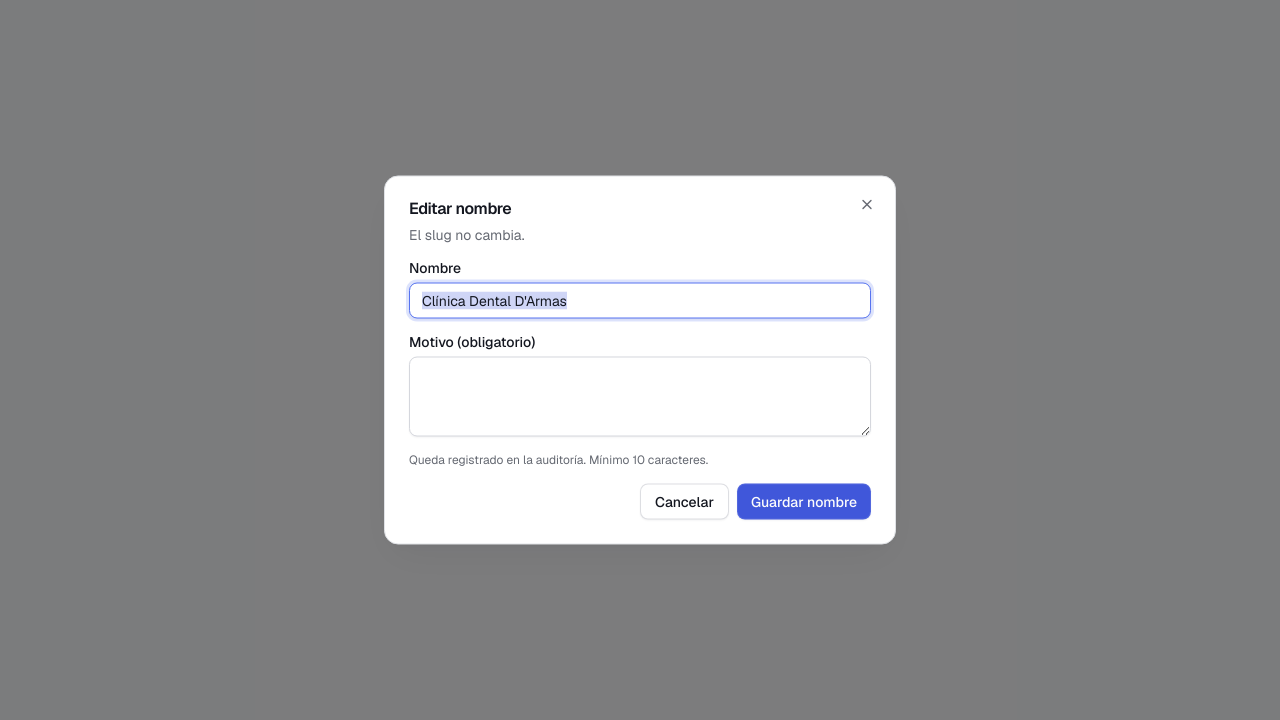
Test: D17: VERSION_CONFLICT en acciones de clínica › editar nombre: "Descartar mis cambios" vuelve al nombre actual
The width and height of the screenshot is (1280, 720).
Replace the text in the field labelled "Nombre" with "Nombre nuevo" at (640, 300), box [409, 282, 871, 318]
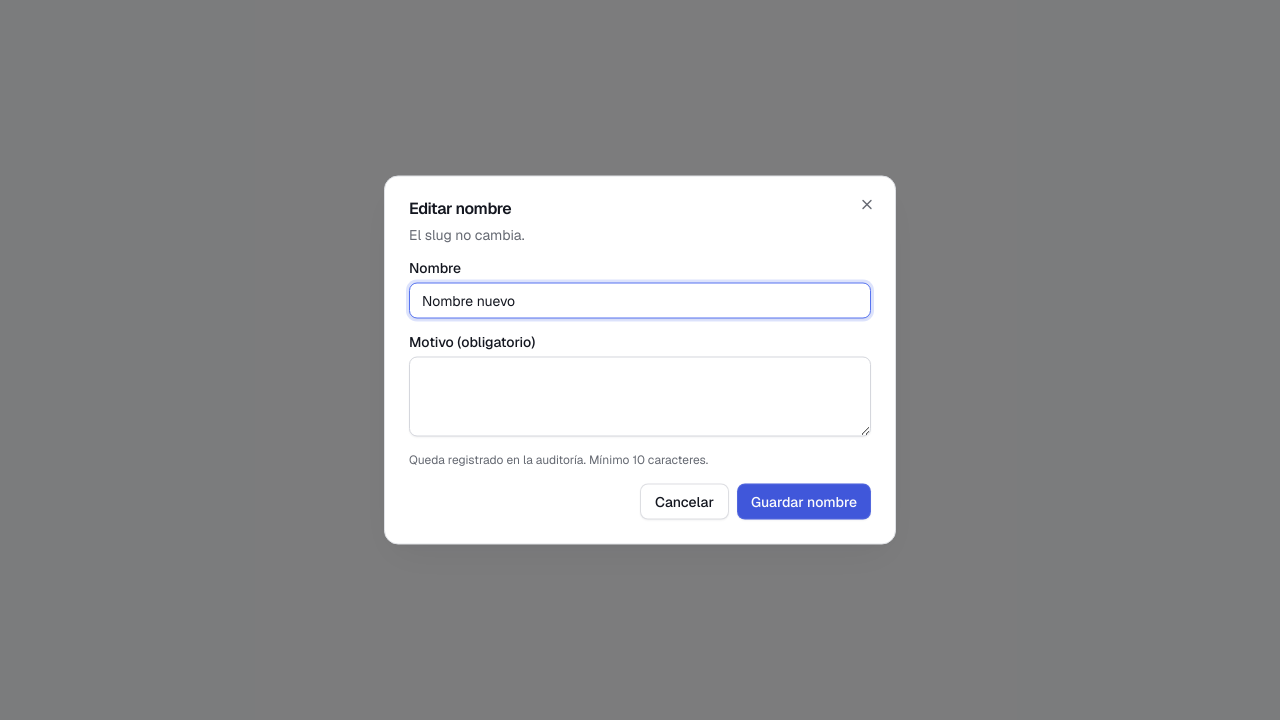
Type "Falta de pago confirmada por finanzas" into the text box labelled "Motivo (obligatorio)" at (640, 396), box [409, 356, 871, 436]
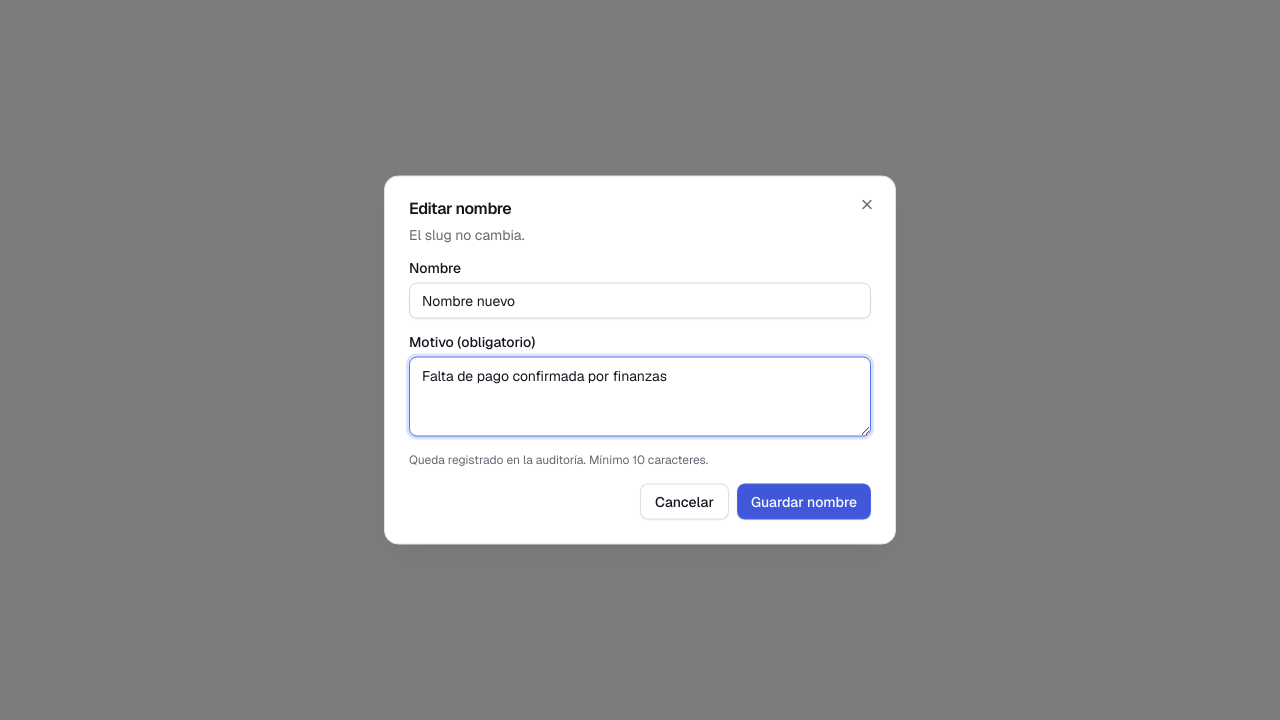
Click the button "Guardar nombre" at (804, 502), box [737, 484, 871, 520]
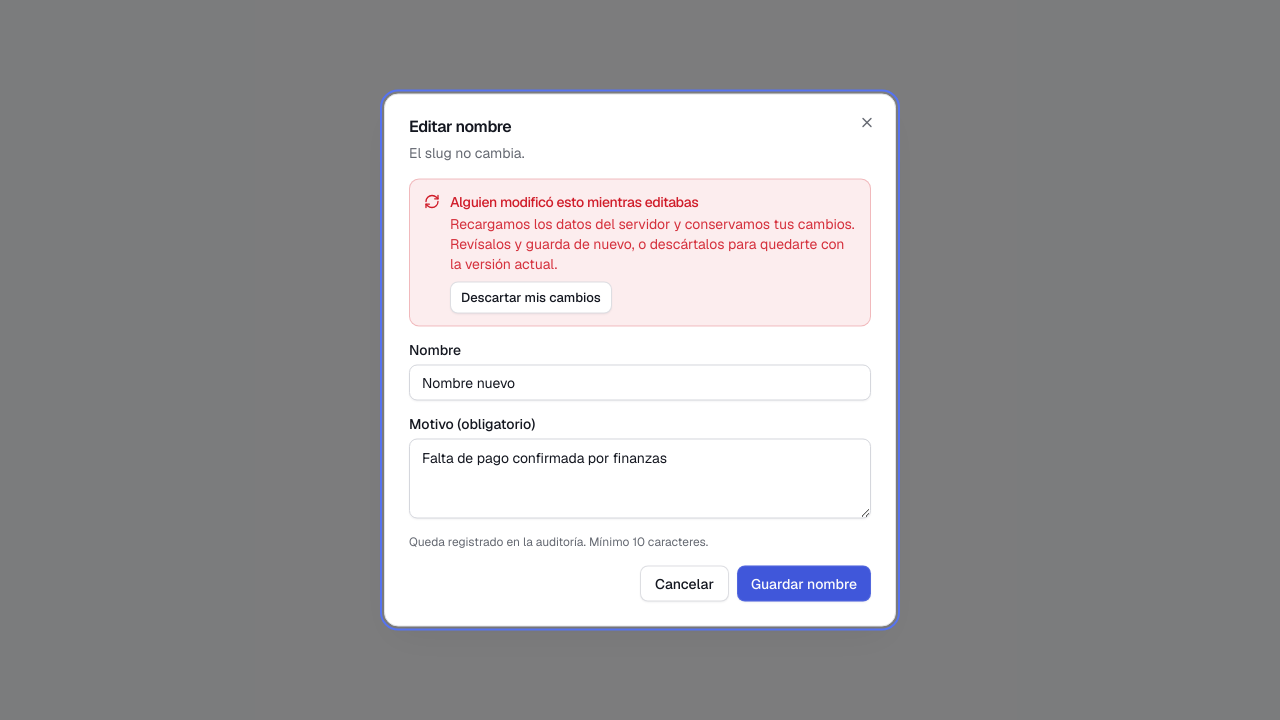
Click the button "Descartar mis cambios" at (531, 298), box [450, 282, 612, 314]
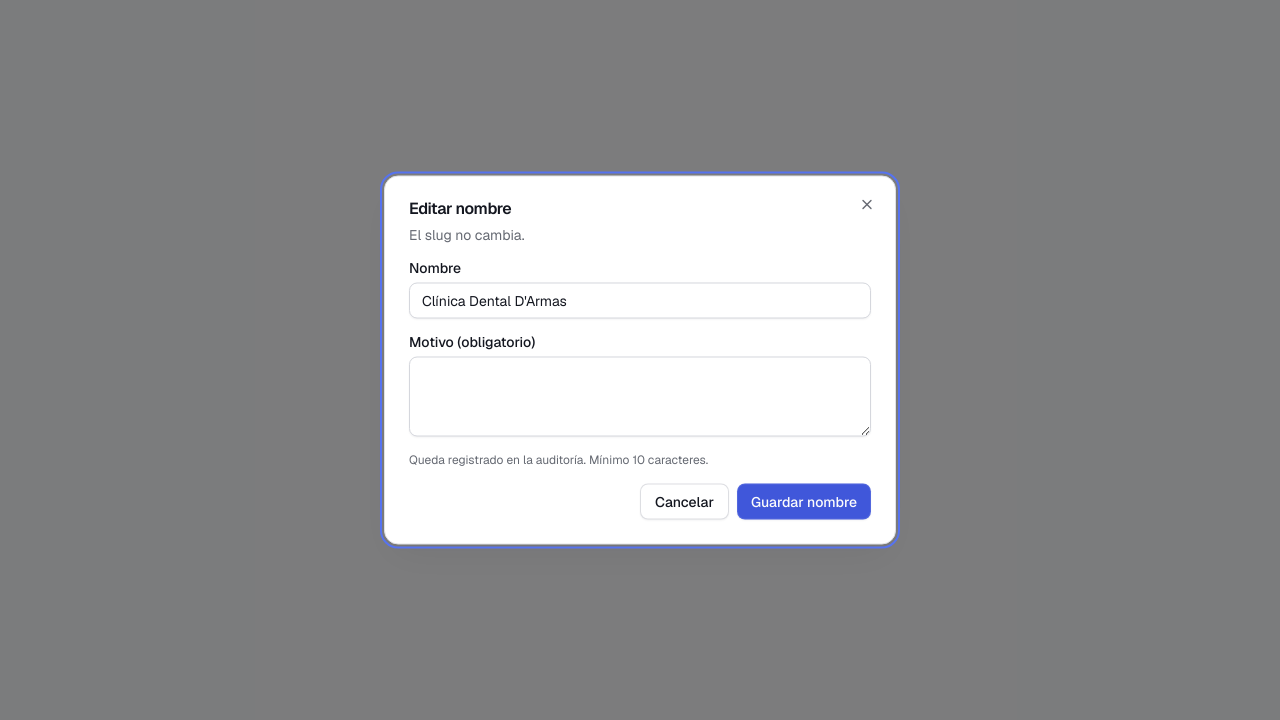
Expected: the field labelled "Nombre" holds "Clínica Dental D'Armas", [409, 282, 871, 318]
Expected: the message with test id "version-conflict" is gone
